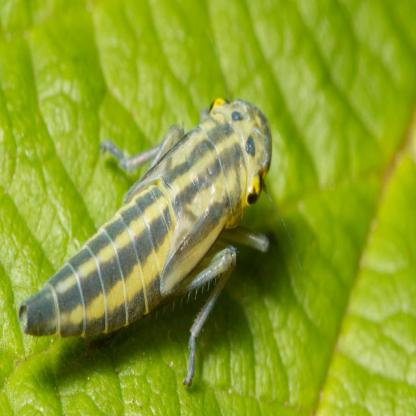Green-Leafhopper: (17, 89, 275, 392)
